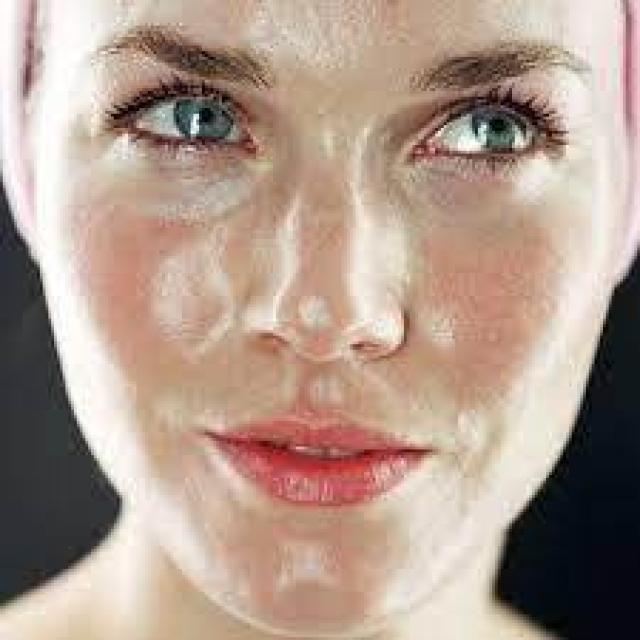oily: (104, 0, 574, 547)
